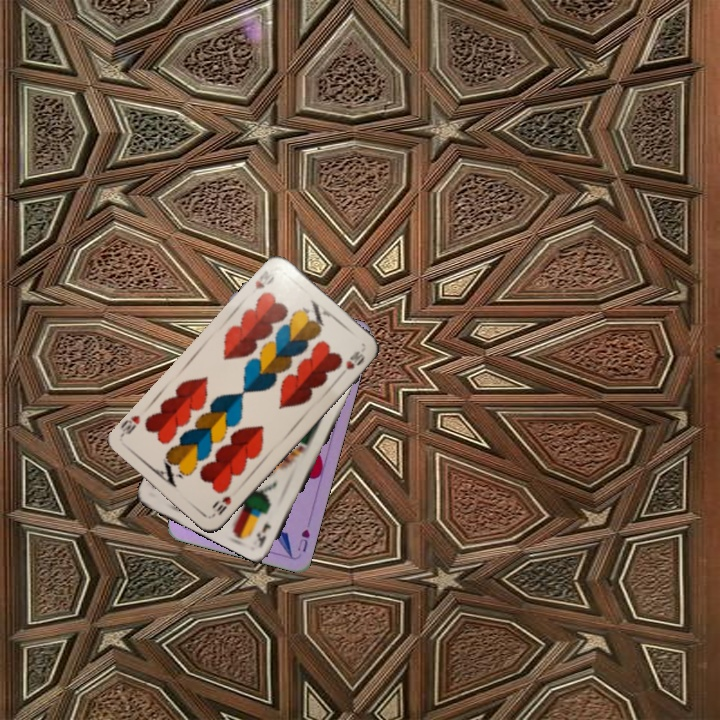EK: (253, 519, 274, 548)
H10: (251, 267, 277, 292), (212, 492, 234, 518)
HU: (293, 525, 313, 555)
